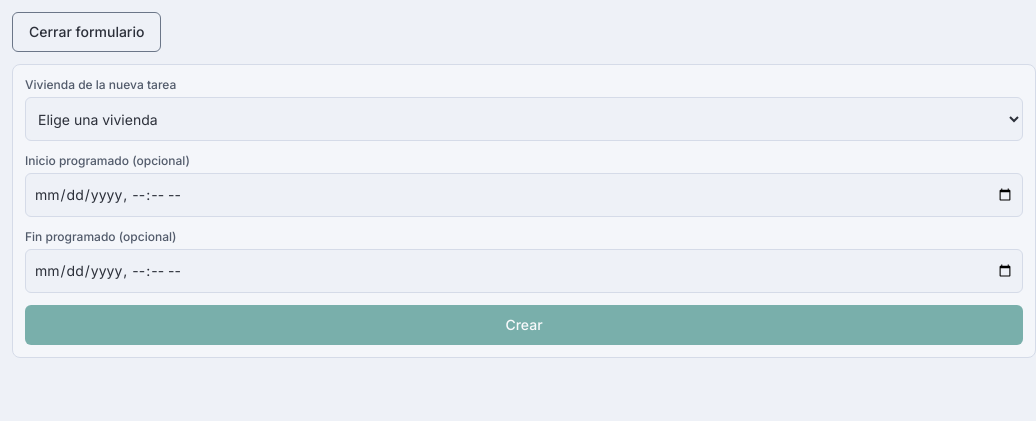
Test: CreateCleaningTaskPanel — the non-assignability notice (R2.1–R2.3) › shows the warning for a property whose state does not admit CLEANER_ASSIGNED
This screenshot has width=1036, height=421.
Select "PAJARITOS8 · Pajaritos 8" in the dropdown labelled "Vivienda de la nueva tarea": [524, 119] box [25,97,1023,141]
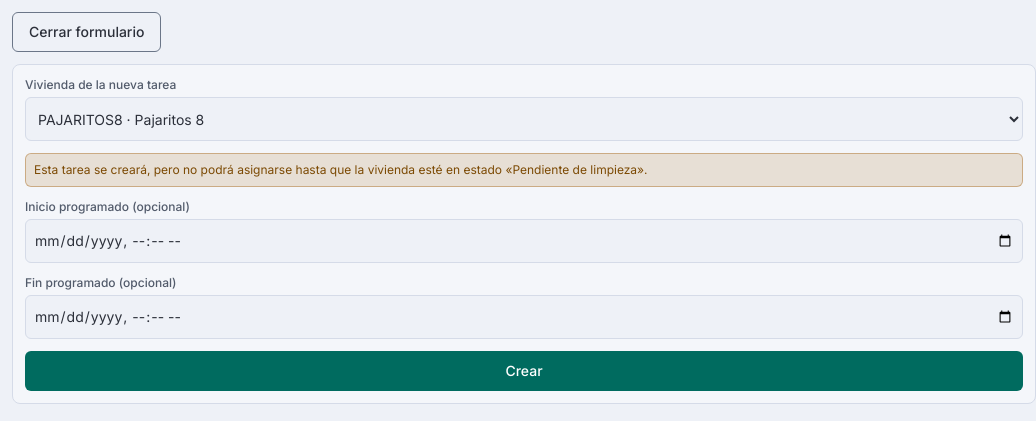
Expected: the text "no podrá asignarse hasta que la vivienda esté" is shown, [34,162,648,177]
